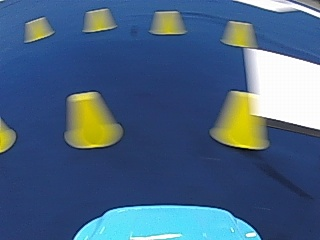cone: (210, 90, 267, 149), (64, 91, 121, 148), (221, 20, 256, 47), (150, 10, 186, 35), (84, 8, 115, 32), (25, 16, 53, 42)
